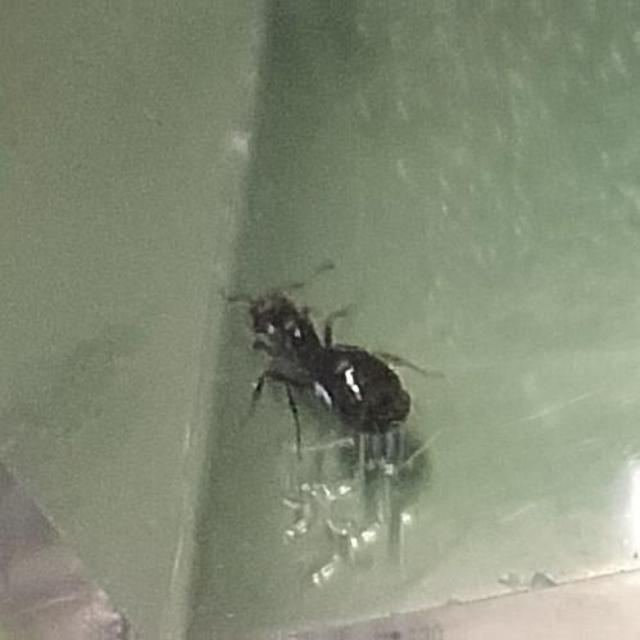Crematogaster: (228, 273, 424, 433)
